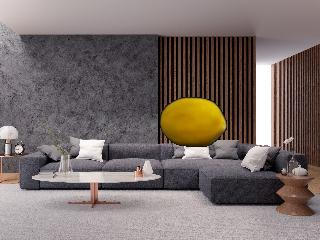lemon: (161, 98, 226, 146)
